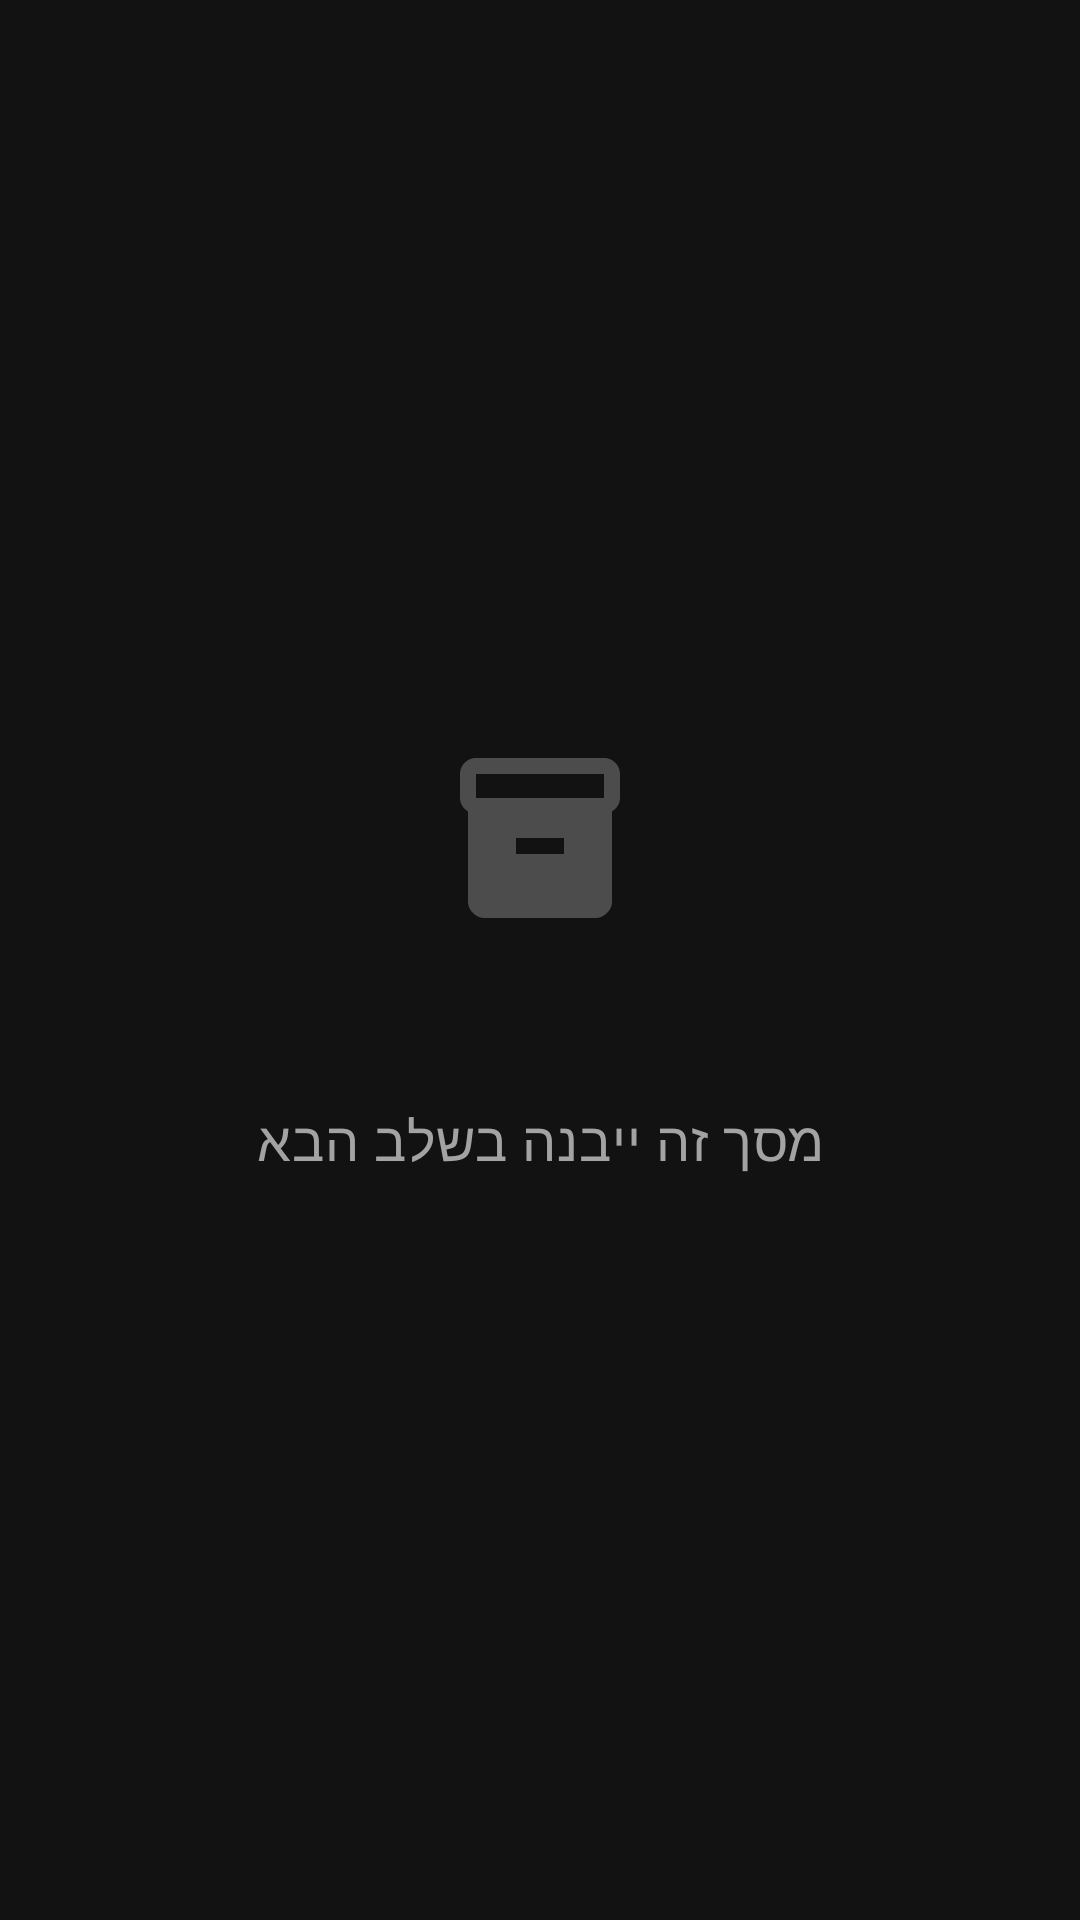

Named icons in this screenshot (1080px×1920px) and their centers, [x,y]:
inventory: [540,838]
